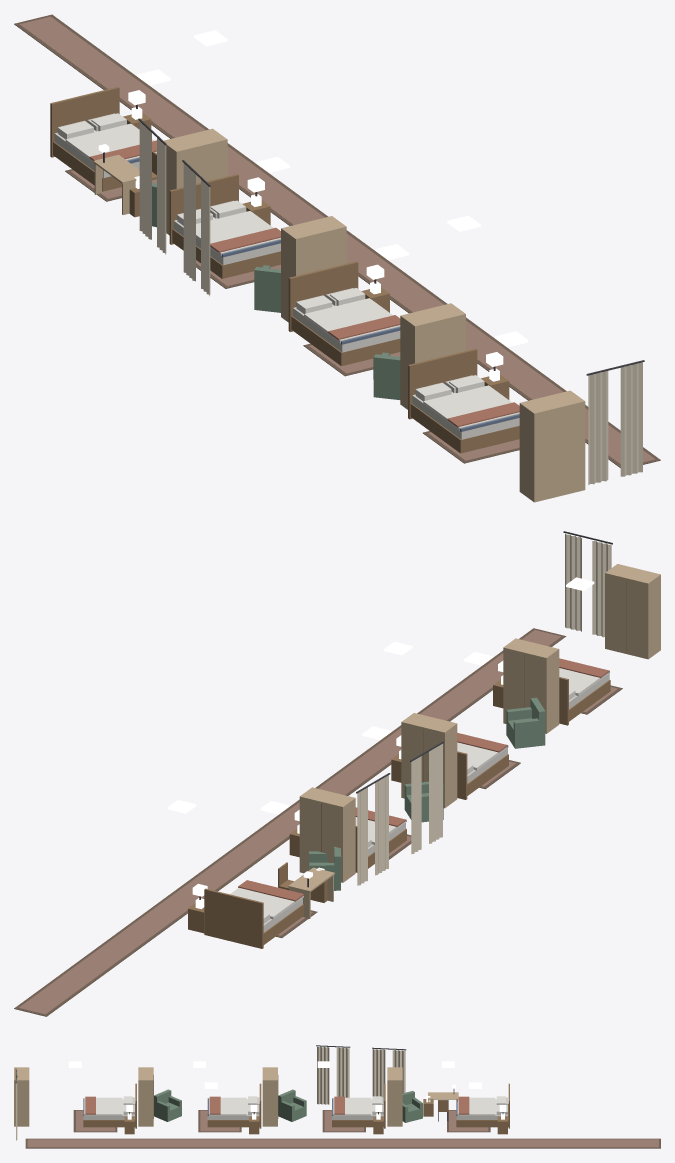
The model's file is fine-s1.glb.
The picture shows the model from 3 angles, top to bottom: view 1: azimuth 30°, elevation 25°; view 2: azimuth 150°, elevation 25°; view 3: azimuth 270°, elevation 25°; orthographic projection. The views are drawn at different scales.
Parts seen in each view (by area): view 1: soft-s1, dresser.003, bed-frame.002, bed-frame.003, bed-frame.001, dresser.002, dresser.001, bed-frame.000, dresser.000, writing-desk.000, lounge-chair.002, lounge-chair.001; view 2: soft-s1, dresser.003, dresser.000, dresser.002, bed-frame.000, dresser.001, lounge-chair.002, bed-frame.002, bed-frame.003, writing-desk.000, lounge-chair.000; view 3: soft-s1, dresser.001, dresser.000, dresser.002, dresser.003, bed-frame.002, lounge-chair.001, lounge-chair.002, bed-frame.003, bed-frame.001, bed-frame.000, lounge-chair.000 (+6 smaller).
Boxes of the visible parts, x1=… form: soft-s1: x1=14, y1=14, x2=660, y2=484; dresser.003: x1=519, y1=390, x2=585, y2=502; bed-frame.002: x1=288, y1=261, x2=400, y2=366; bed-frame.003: x1=408, y1=348, x2=519, y2=453; bed-frame.001: x1=169, y1=174, x2=280, y2=278; dresser.002: x1=400, y1=303, x2=465, y2=409; dresser.001: x1=281, y1=216, x2=346, y2=322; bed-frame.000: x1=50, y1=87, x2=139, y2=191; dresser.000: x1=163, y1=128, x2=227, y2=235; writing-desk.000: x1=93, y1=144, x2=139, y2=214; lounge-chair.002: x1=373, y1=352, x2=400, y2=399; lounge-chair.001: x1=254, y1=265, x2=280, y2=312; soft-s1: x1=14, y1=531, x2=622, y2=1016; dresser.003: x1=605, y1=564, x2=660, y2=659; dresser.000: x1=299, y1=787, x2=355, y2=882; dresser.002: x1=503, y1=638, x2=559, y2=733; bed-frame.000: x1=204, y1=888, x2=303, y2=948; dresser.001: x1=401, y1=713, x2=457, y2=808; lounge-chair.002: x1=506, y1=697, x2=545, y2=748; bed-frame.002: x1=457, y1=745, x2=508, y2=799; bed-frame.003: x1=559, y1=670, x2=610, y2=725; writing-desk.000: x1=288, y1=867, x2=334, y2=918; lounge-chair.000: x1=309, y1=846, x2=341, y2=890; soft-s1: x1=15, y1=1045, x2=660, y2=1148; dresser.001: x1=262, y1=1067, x2=278, y2=1126; dresser.000: x1=387, y1=1067, x2=402, y2=1126; dresser.002: x1=138, y1=1067, x2=153, y2=1126; dresser.003: x1=14, y1=1067, x2=29, y2=1126; bed-frame.002: x1=207, y1=1083, x2=261, y2=1128; lounge-chair.001: x1=278, y1=1089, x2=306, y2=1121; lounge-chair.002: x1=154, y1=1089, x2=181, y2=1121; bed-frame.003: x1=83, y1=1083, x2=136, y2=1128; bed-frame.001: x1=332, y1=1083, x2=385, y2=1128; bed-frame.000: x1=456, y1=1083, x2=509, y2=1128; lounge-chair.000: x1=402, y1=1091, x2=422, y2=1122.
Size of the model in its own units: 4.08 by 2.56 by 25.3.
